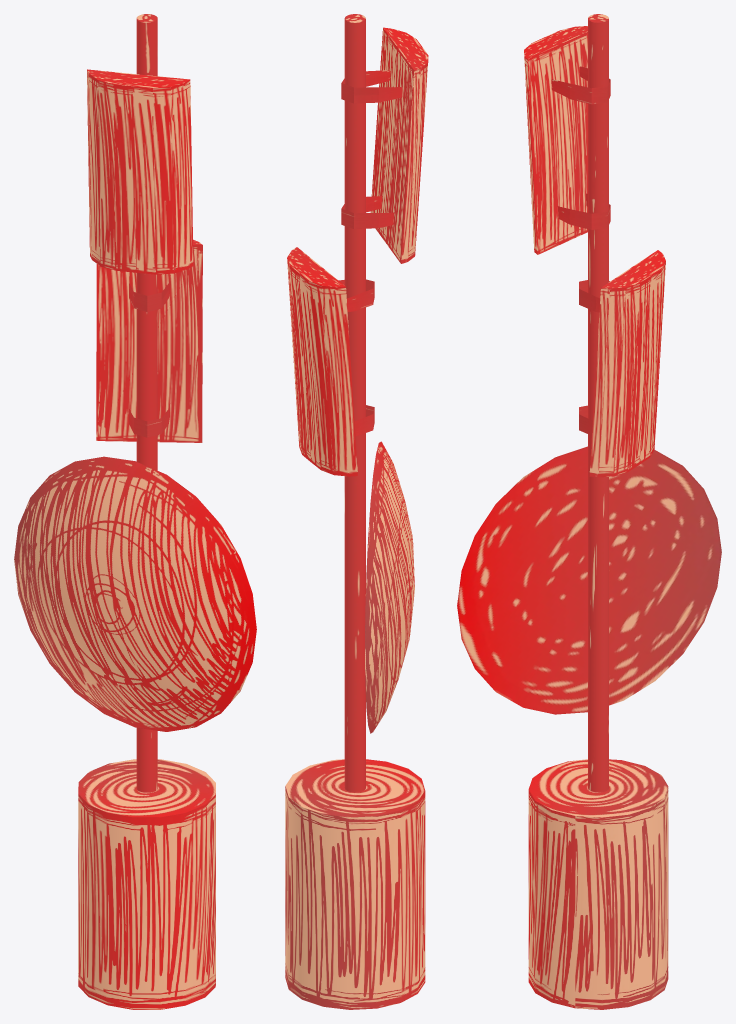
The model's file is antenne_2024.glb.
The picture shows the model from 3 angles, left to right: view 1: azimuth 30°, elevation 25°; view 2: azimuth 150°, elevation 25°; view 3: azimuth 270°, elevation 25°; orthographic projection.
Parts seen in each view (by area): view 1: EVERESTLINK.BASE; view 2: EVERESTLINK.BASE; view 3: EVERESTLINK.BASE.
Part boxes in pixels (<box>): EVERESTLINK.BASE: <box>14,14,256,1009</box>; EVERESTLINK.BASE: <box>285,14,428,1009</box>; EVERESTLINK.BASE: <box>457,14,721,1009</box>.
Bounding box in the file's own units: 0.7281 × 5 × 1.25.
1 material, 1 textured.
